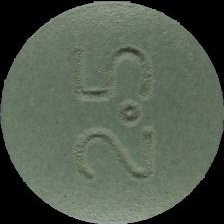13668-132: (0, 0, 224, 224)
